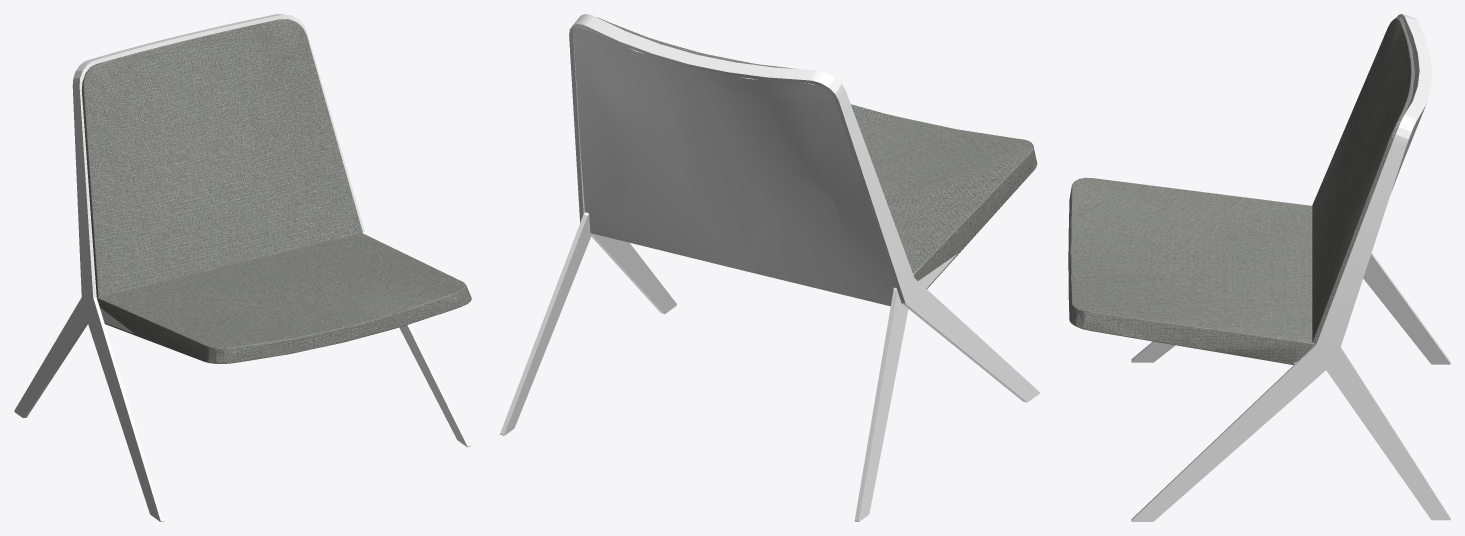
File: SM_Chair_A.fbx
3 views of the same model, side by side, from view 1: azimuth 30°, elevation 25°; view 2: azimuth 150°, elevation 25°; view 3: azimuth 270°, elevation 25° (orthographic). The views are drawn at different scales.
Parts seen in each view (by area): view 1: mesh0%root%1%, mesh0%root%0%; view 2: mesh0%root%0%, mesh0%root%1%; view 3: mesh0%root%1%, mesh0%root%0%.
Part boxes in pixels (<box>): mesh0%root%1%: <box>81,19,471,363</box>; mesh0%root%0%: <box>14,14,470,521</box>; mesh0%root%0%: <box>500,14,1039,521</box>; mesh0%root%1%: <box>597,17,1037,288</box>; mesh0%root%1%: <box>1068,18,1414,364</box>; mesh0%root%0%: <box>1091,14,1450,521</box>.
Size of the model in its own units: 71.33 by 77.49 by 71.33.
2 materials, 1 textured.
